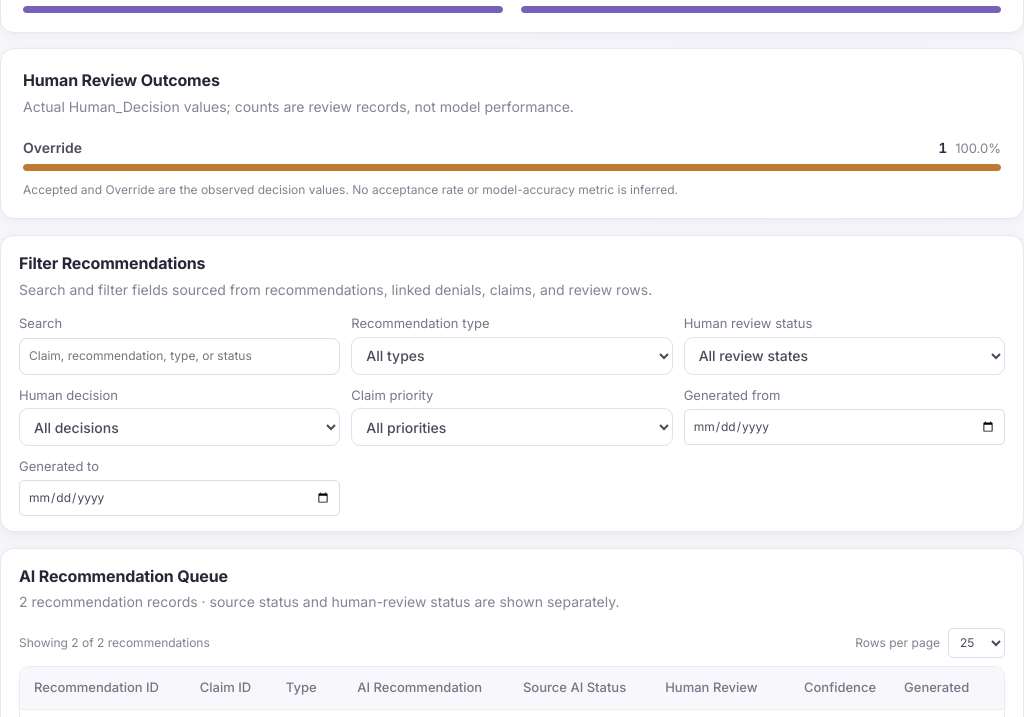
AIHITLPage › filters and searches the recommendation queue
The width and height of the screenshot is (1024, 717).
(page scrolled)
Type "CL-2" into the search field named "Search recommendations". click: coordinates (180, 356)
box: [19,338,340,375]
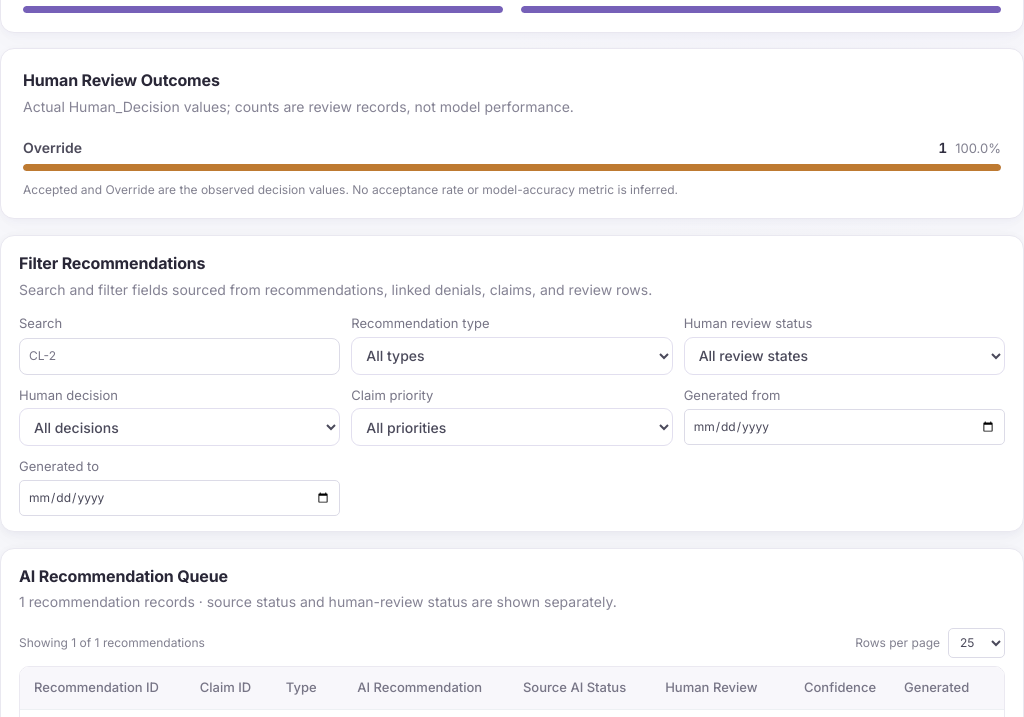
Expected: no buttons "AI-1" are shown
Clear the search field named "Search recommendations". click: coordinates (180, 356)
box: [19,338,340,375]
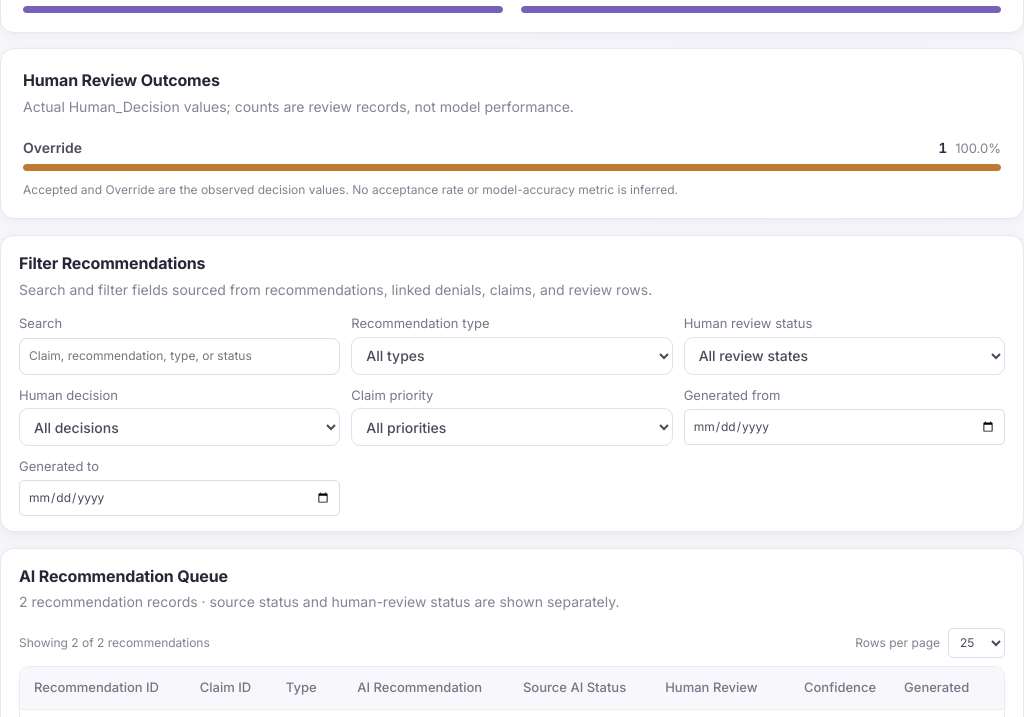
Select "Pending" in the dropdown labelled "Human review status". click: coordinates (844, 356)
box: [684,337,1005,375]
(page scrolled)
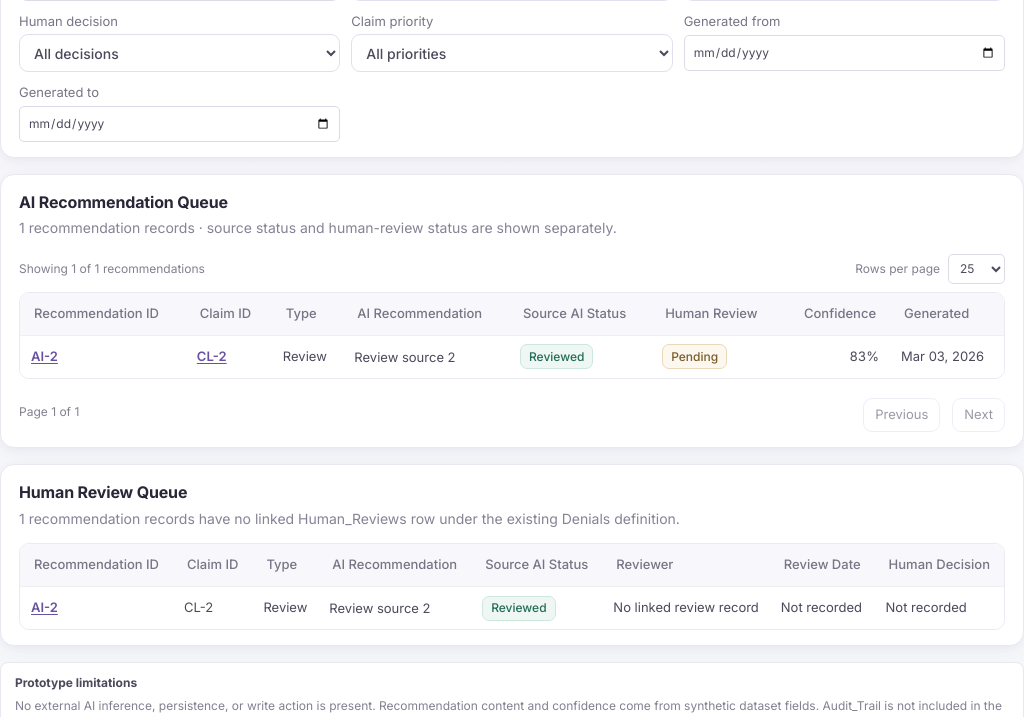
Expected: the button "AI-2" in the row of "83%" is shown, [31,344,58,370]
Expected: no buttons "AI-1" are shown
